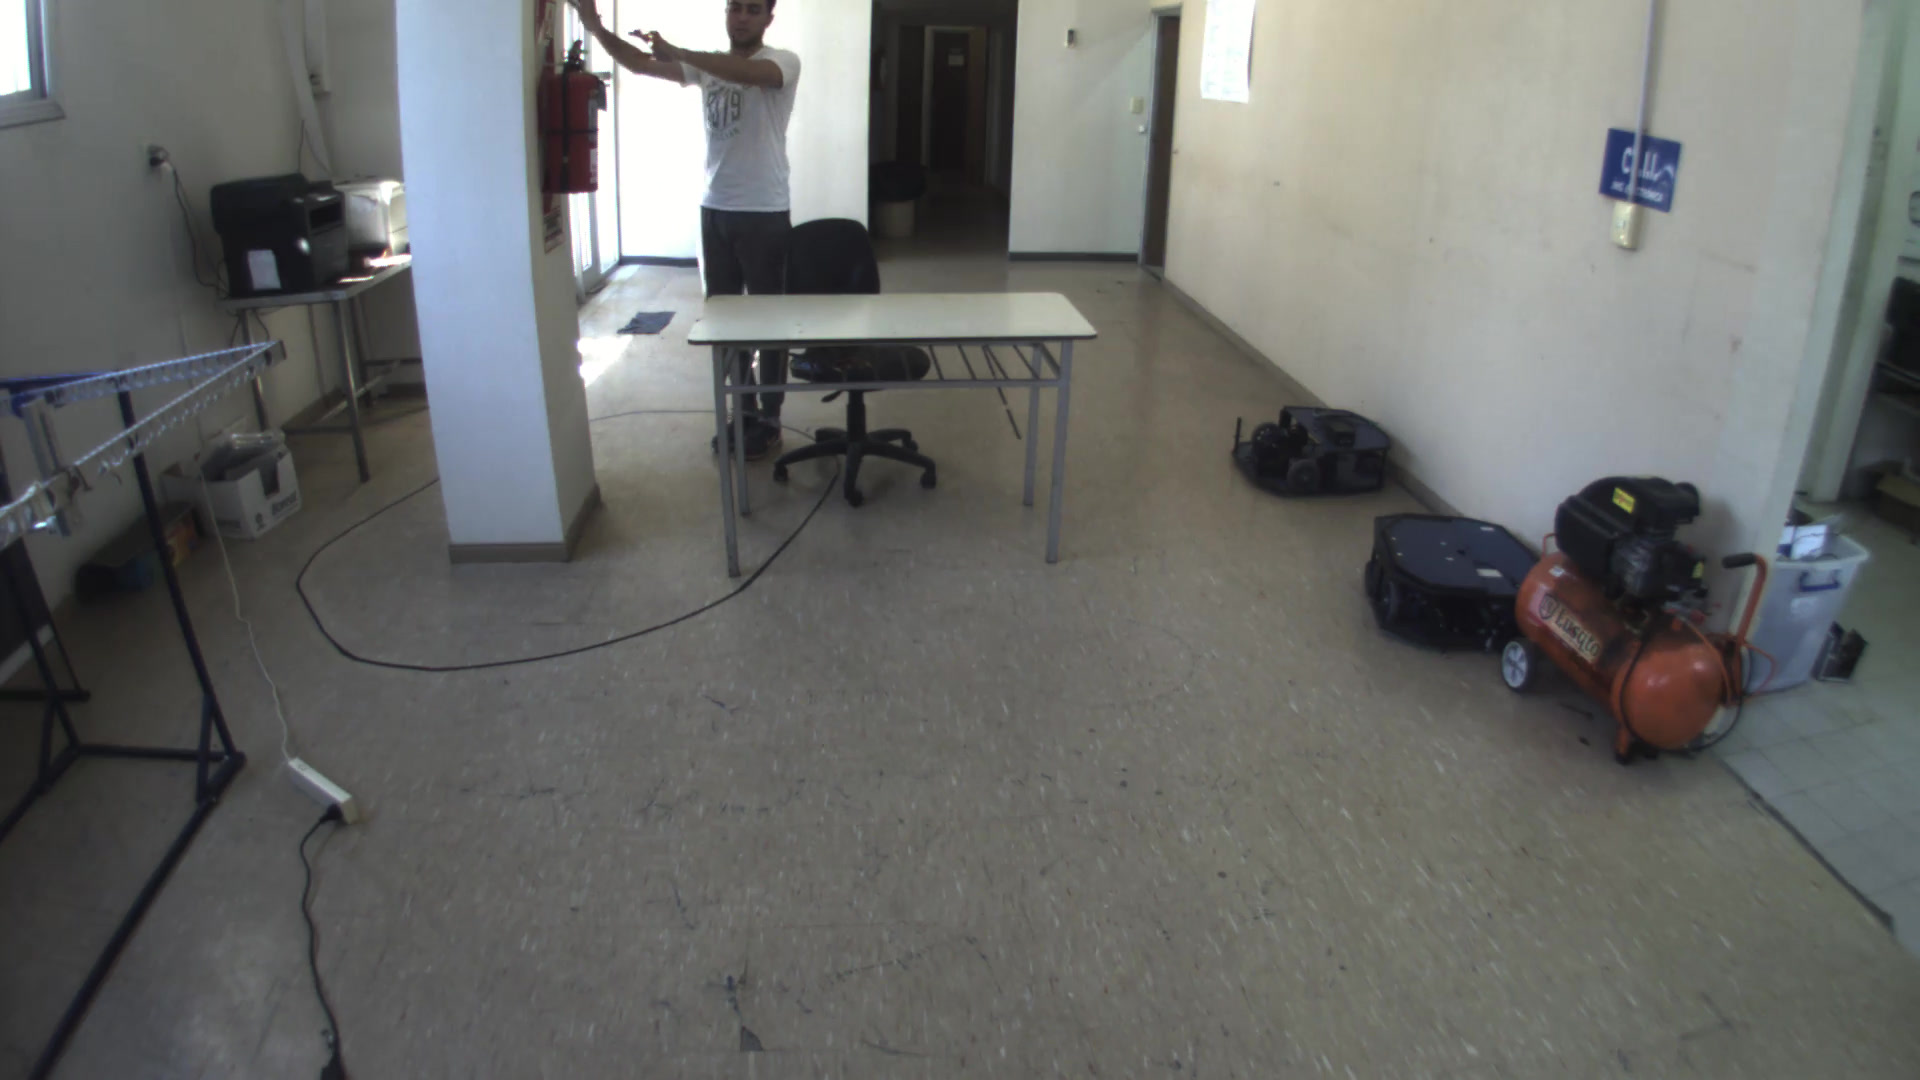hand: (629, 18, 676, 70)
